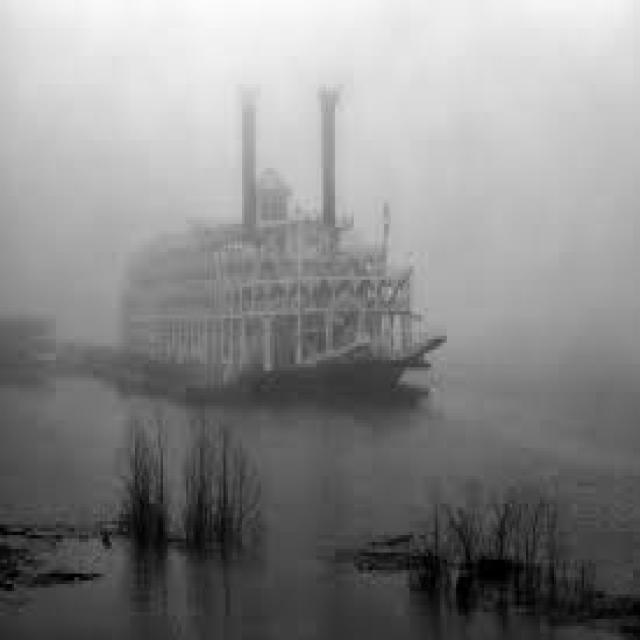passenger ship: (105, 154, 430, 380)
